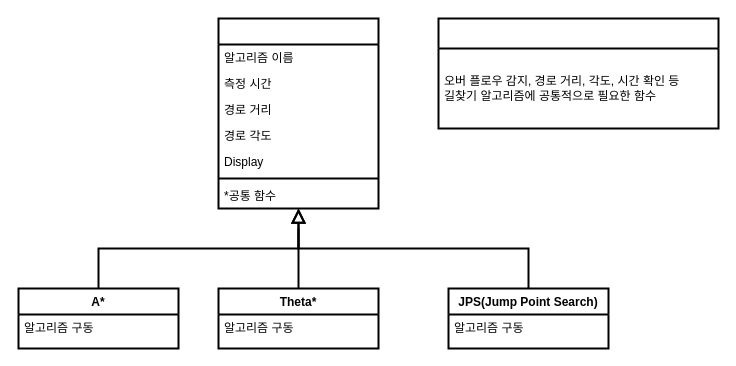
The diagram is 736 pixels wide and 366 high, and some of its shapes have lost their labels. Here are the shapes that lost their labels. From the top down, the box of each, then its label:
(437, 17, 719, 129): 공통 함수
(217, 17, 379, 209): Agent
